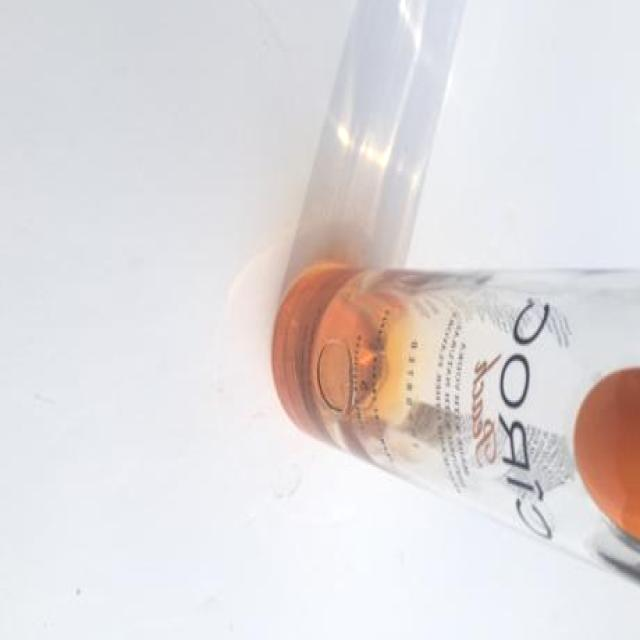chai_thuy_tinh: (273, 262, 640, 575)
